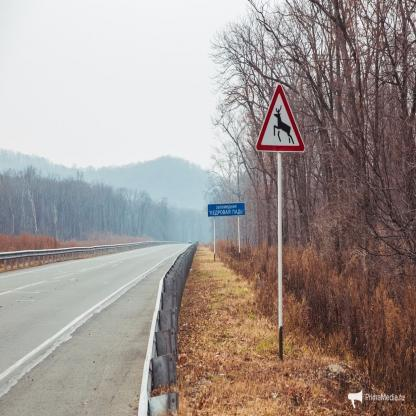road_sign: (257, 83, 304, 150)
